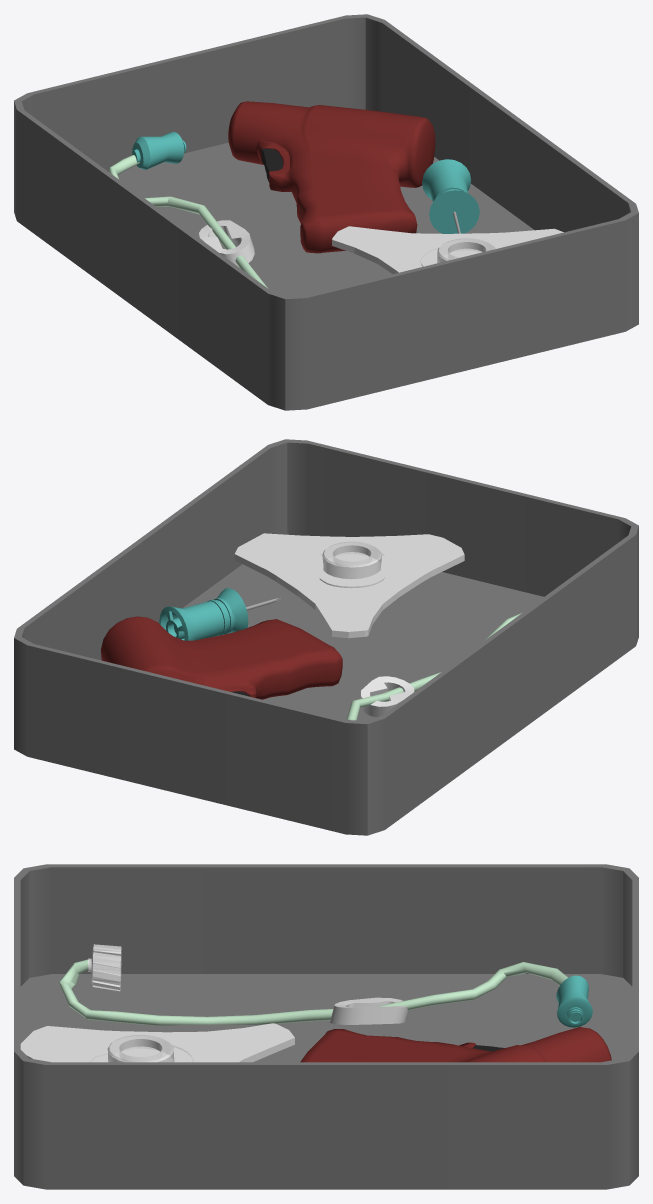
Rendered from hopchocxuongchay.fbx.
The picture shows the model from 3 angles, top to bottom: view 1: azimuth 30°, elevation 25°; view 2: azimuth 150°, elevation 25°; view 3: azimuth 270°, elevation 25°; orthographic projection. The views are drawn at different scales.
Visible parts, largest first — view 1: hop, pasted__pasted__pasted__drill, pasted__planarTrimmedSurface1, pasted__pasted__dayIOShape, pasted__pasted__pCylinder5, pasted__pasted__polySurface1, pasted__pasted__pCylinder7; view 2: hop, pasted__pasted__pasted__drill, pasted__planarTrimmedSurface1, pasted__pasted__pCylinder7, pasted__pasted__dayIOShape, pasted__pasted__polySurface1, pasted__pasted__pCylinder5; view 3: hop, pasted__pasted__dayIOShape, pasted__pasted__pasted__drill, pasted__planarTrimmedSurface1, pasted__pasted__pCylinder7.
Boxes of the visible parts, left/top/right/bottom form: hop: left=14, top=14, right=638, bottom=410; pasted__pasted__pasted__drill: left=228, top=101, right=435, bottom=253; pasted__planarTrimmedSurface1: left=332, top=226, right=563, bottom=273; pasted__pasted__dayIOShape: left=109, top=132, right=268, bottom=288; pasted__pasted__pCylinder5: left=429, top=186, right=479, bottom=233; pasted__pasted__polySurface1: left=422, top=159, right=471, bottom=201; pasted__pasted__pCylinder7: left=420, top=238, right=495, bottom=266; hop: left=14, top=439, right=638, bottom=835; pasted__pasted__pasted__drill: left=101, top=616, right=342, bottom=699; pasted__planarTrimmedSurface1: left=234, top=533, right=464, bottom=638; pasted__pasted__pCylinder7: left=319, top=541, right=384, bottom=588; pasted__pasted__dayIOShape: left=347, top=612, right=522, bottom=720; pasted__pasted__polySurface1: left=159, top=597, right=281, bottom=640; pasted__pasted__pCylinder5: left=207, top=588, right=277, bottom=635; hop: left=14, top=864, right=638, bottom=1189; pasted__pasted__dayIOShape: left=59, top=944, right=592, bottom=1027; pasted__pasted__pasted__drill: left=300, top=1027, right=611, bottom=1062; pasted__planarTrimmedSurface1: left=20, top=1023, right=294, bottom=1062; pasted__pasted__pCylinder7: left=90, top=1034, right=193, bottom=1062.
Size of the model in its own units: 5.45 by 1.58 by 7.17.
